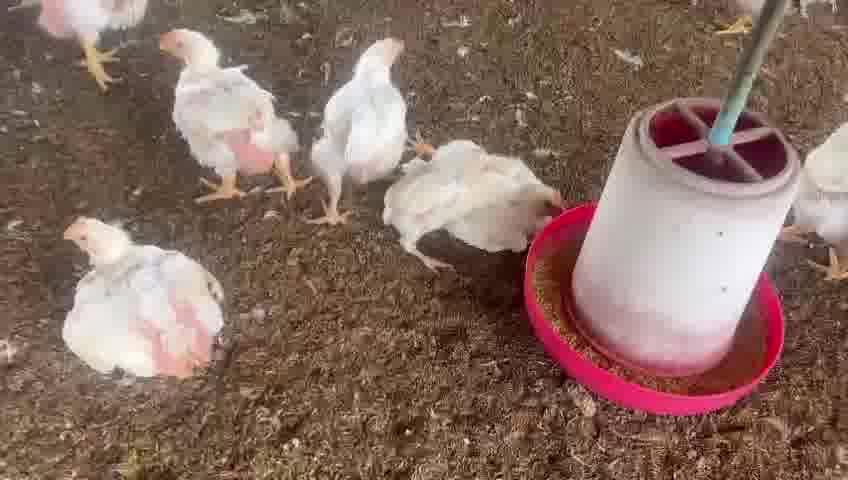AbNormal: (60, 213, 227, 383), (384, 139, 567, 267)
Normal: (160, 34, 301, 204), (305, 39, 408, 228)
